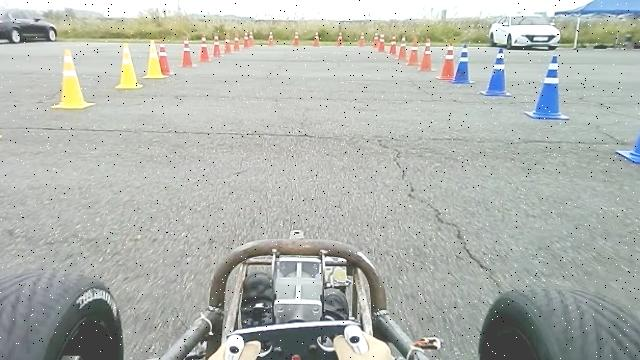blue cone: (525, 54, 570, 120), (479, 47, 513, 96), (451, 43, 475, 84)
red cone: (436, 41, 456, 79), (418, 36, 436, 72), (179, 38, 197, 68), (405, 36, 422, 66), (199, 36, 212, 62), (396, 34, 408, 60), (213, 34, 224, 57), (244, 31, 254, 48), (223, 38, 233, 54), (234, 32, 241, 50)
yellow cone: (51, 48, 95, 109), (115, 42, 144, 90)
